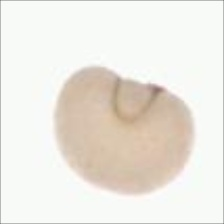L5: (110, 75, 165, 124)
L6: (50, 64, 198, 198)
